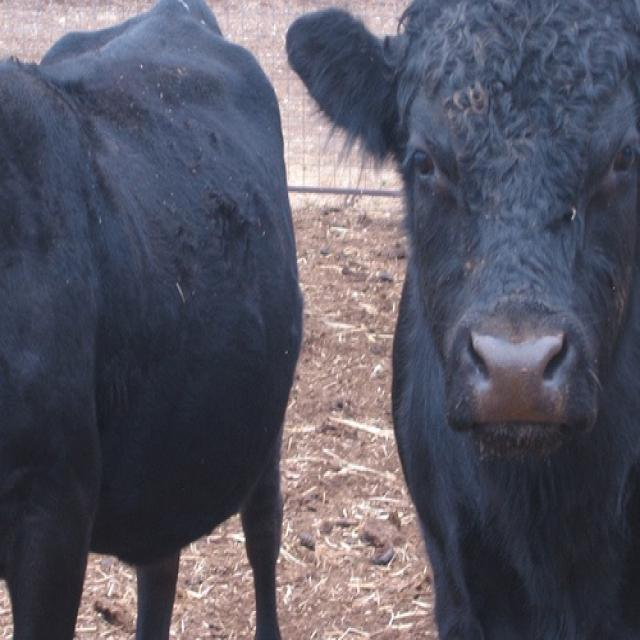cow: (280, 2, 639, 638), (0, 2, 306, 638)
